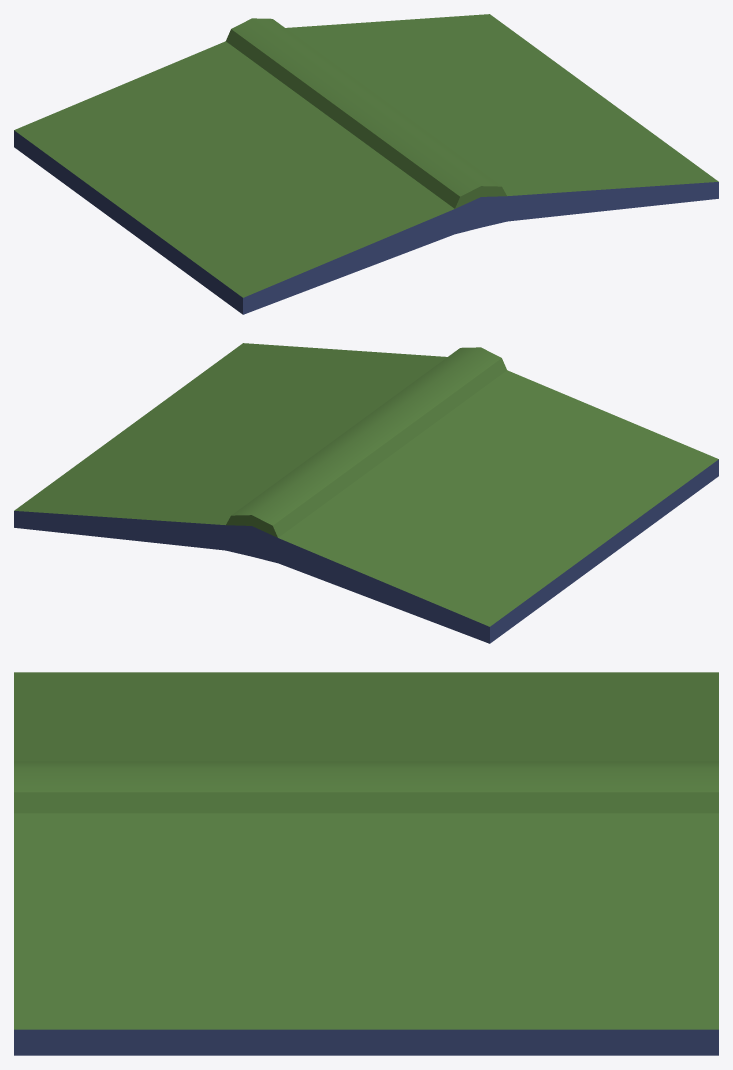
File: openbook.fbx
The picture shows the model from 3 angles, top to bottom: view 1: azimuth 30°, elevation 25°; view 2: azimuth 150°, elevation 25°; view 3: azimuth 270°, elevation 25°; orthographic projection. The views are drawn at different scales.
Parts seen in each view (by area): view 1: openbook; view 2: openbook; view 3: openbook.
Part boxes in pixels (left/top/right/bottom): openbook: left=14, top=14, right=718, bottom=314; openbook: left=14, top=343, right=718, bottom=643; openbook: left=14, top=672, right=718, bottom=1055.
Size of the model in its own units: 0.8524 by 0.1211 by 0.7109.
